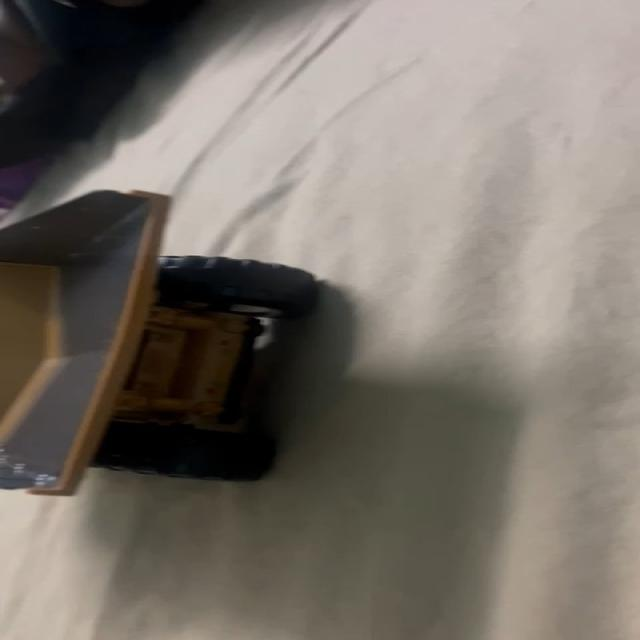dump_truck: (0, 182, 293, 490)
